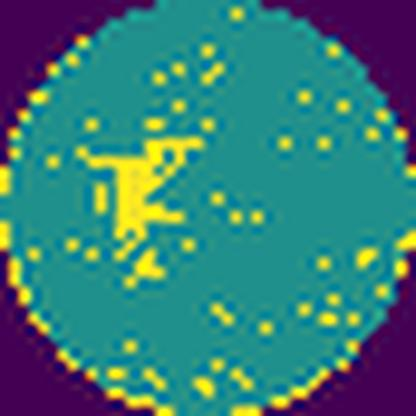Edge-Loc: (76, 138, 203, 257), (122, 248, 168, 288)
